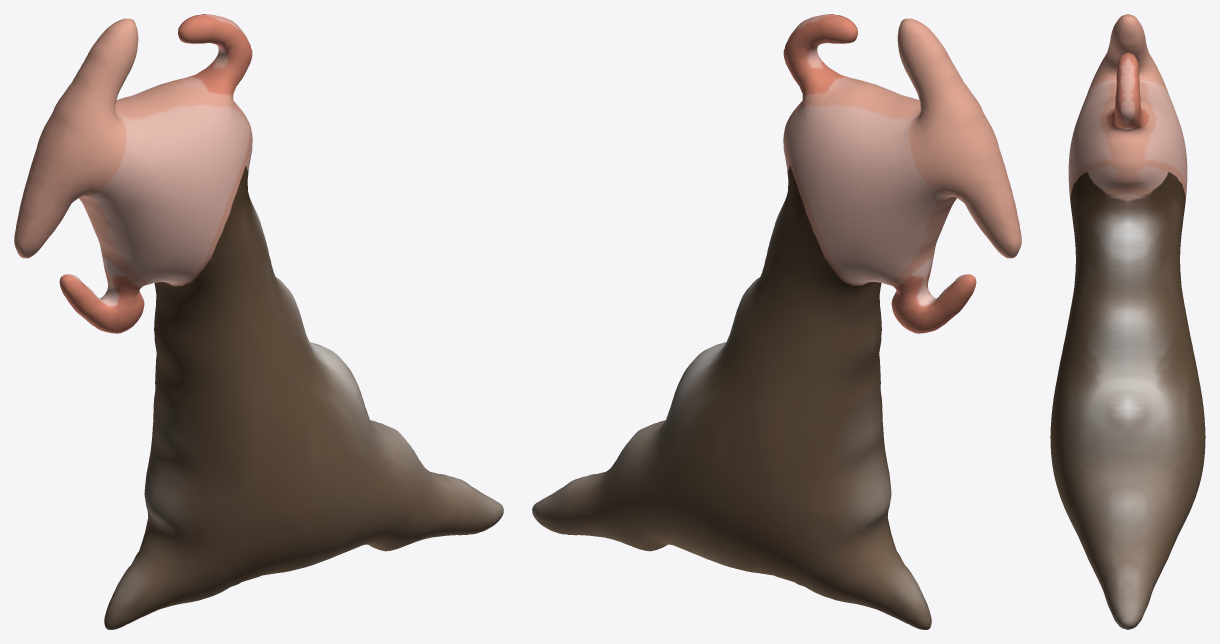
The model's file is Pinkcoffee0.f888dcd2.glb.
3 views of the same model, side by side, from view 1: azimuth 30°, elevation 25°; view 2: azimuth 150°, elevation 25°; view 3: azimuth 270°, elevation 25° (orthographic). The views are drawn at different scales.
Bounding box in the file's own units: 5.93 × 7.06 × 2.05.
1 material, 1 textured.
